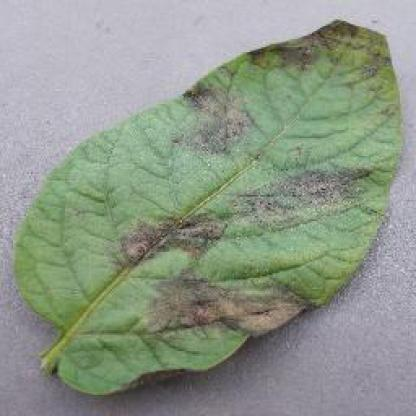bad leaf: (13, 18, 414, 414)
